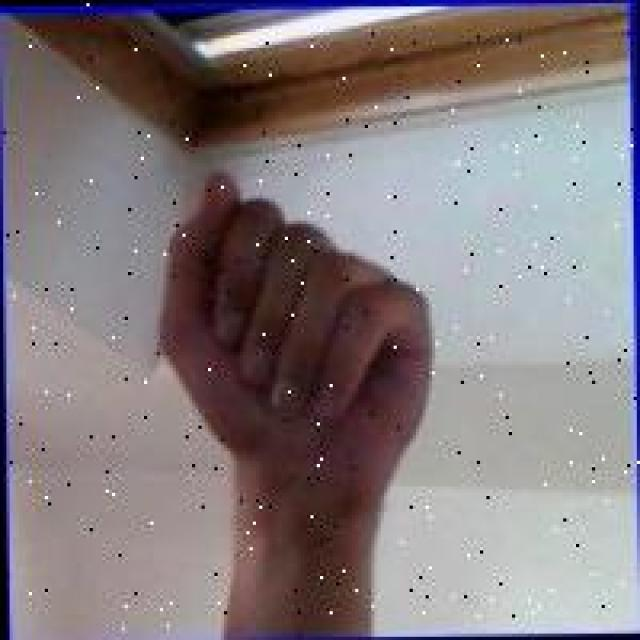A: (149, 160, 440, 550)
